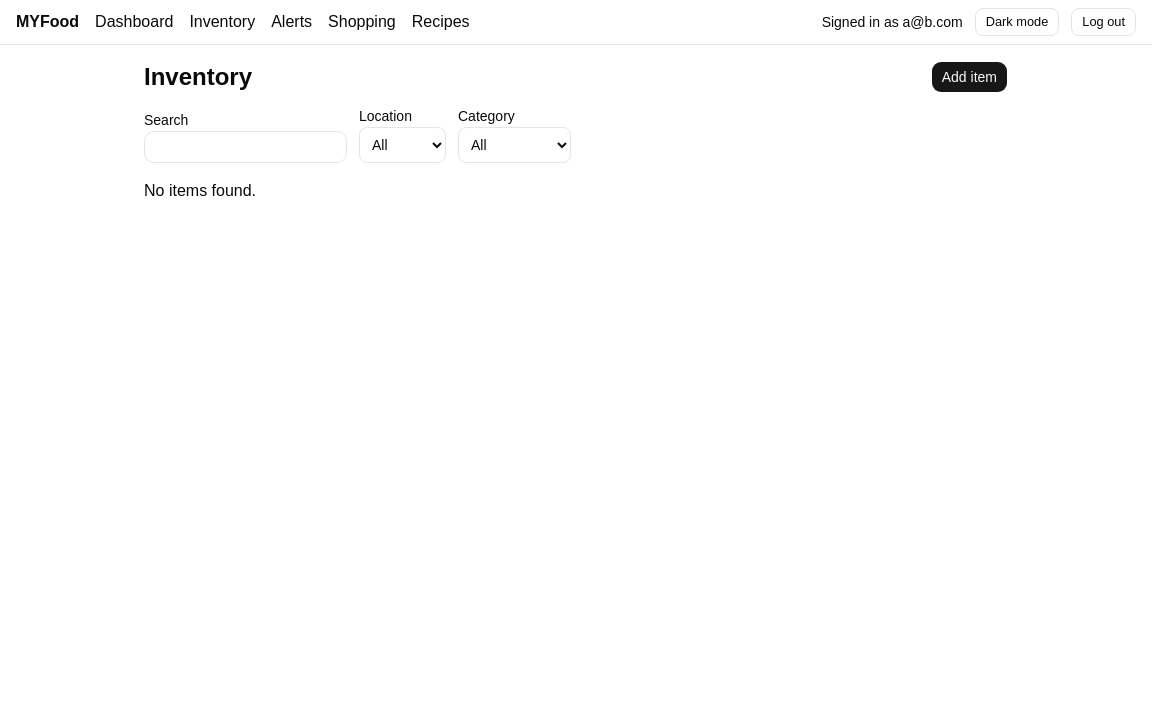
Test: inventory › shows 409 duplicate as a field error when creating
This screenshot has width=1152, height=720.
Click the button "Add item" at (969, 77), box [931,61,1008,93]
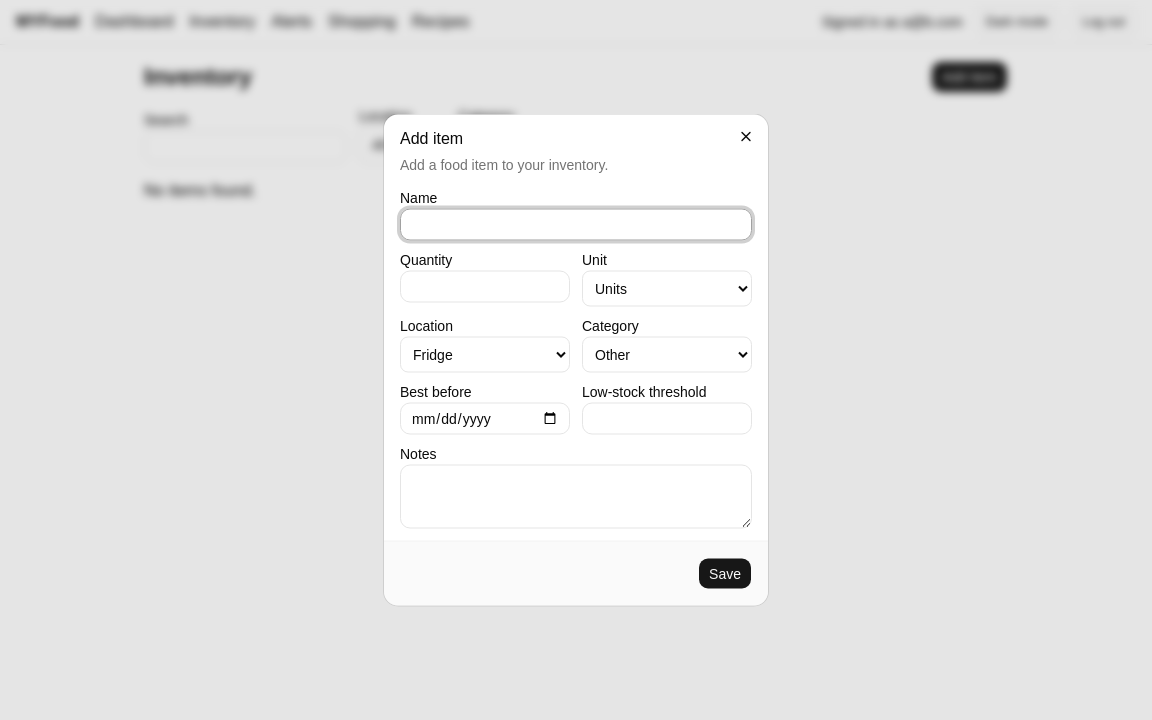
Type "Milk" into the field labelled "Name" at (576, 224), box [400,208,752,240]
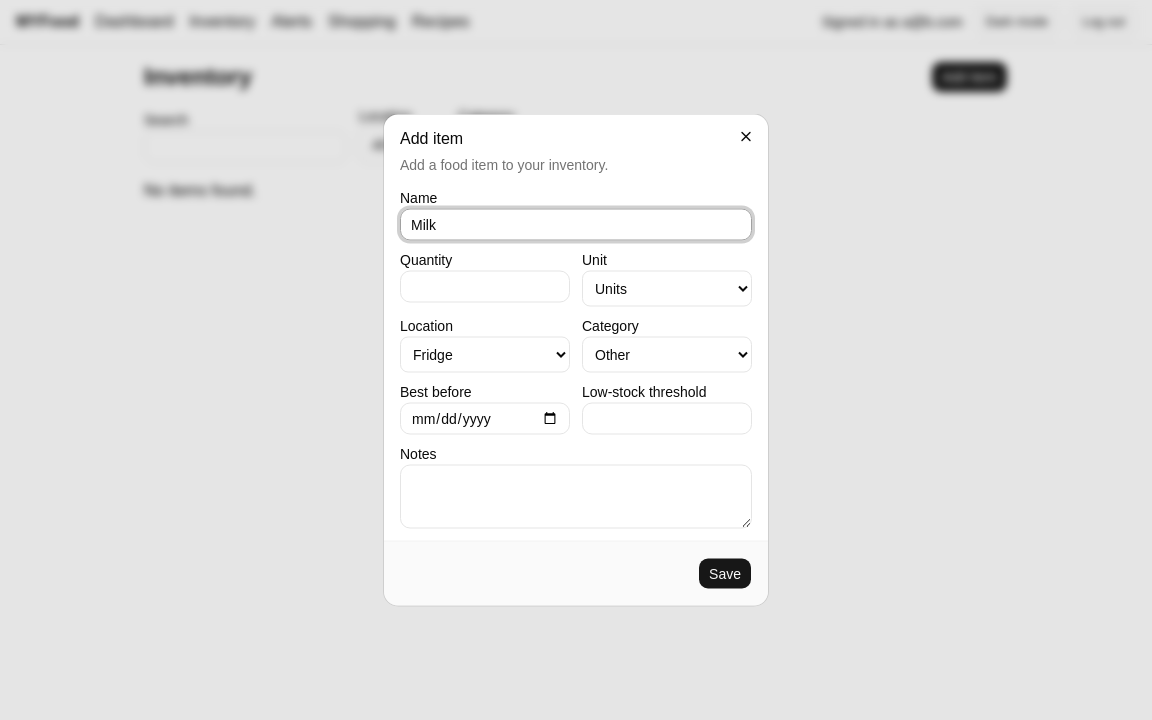
Type "1" into the number field labelled "Quantity" at (485, 286), box [400,270,570,302]
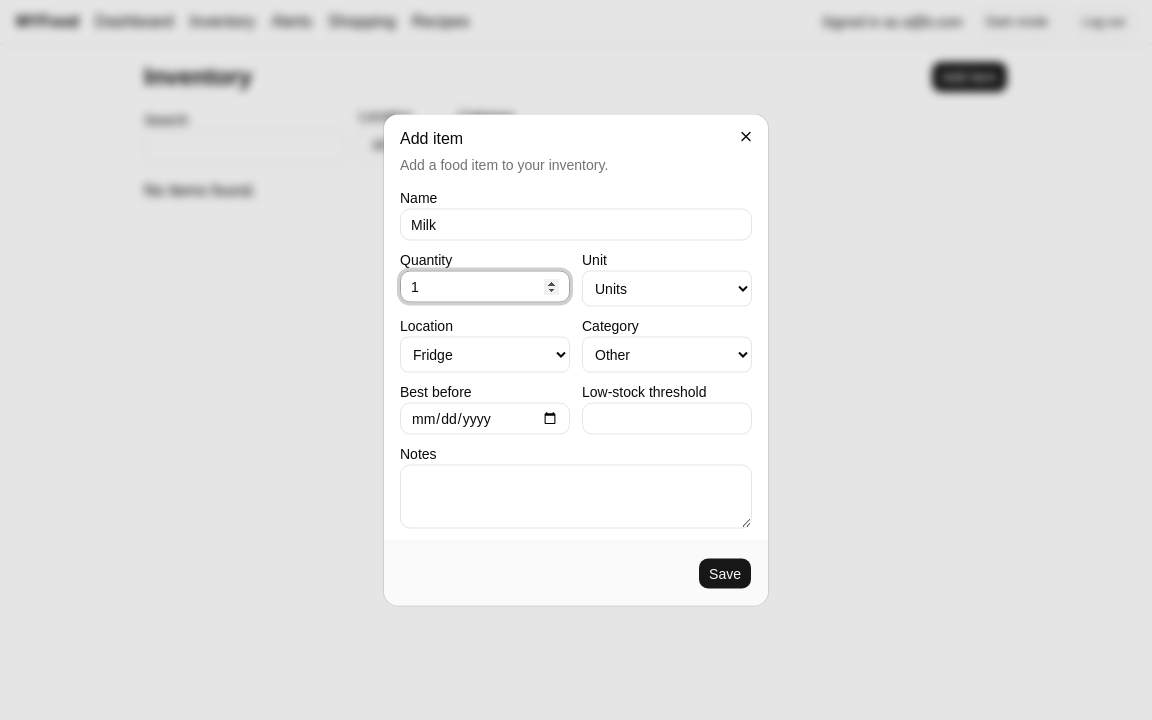
Type "2099-01-01" into the date field labelled "Best before" at (485, 418), box [400,402,570,434]
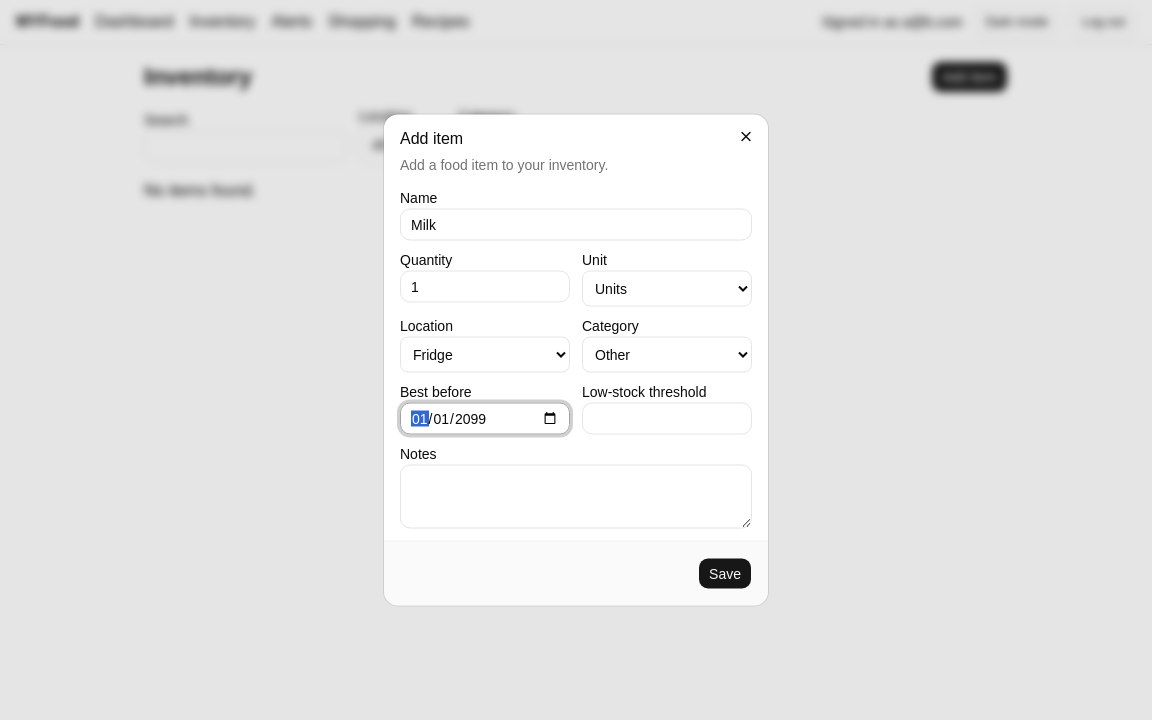
Click the button "Save" at (725, 574), box [698,558,752,590]
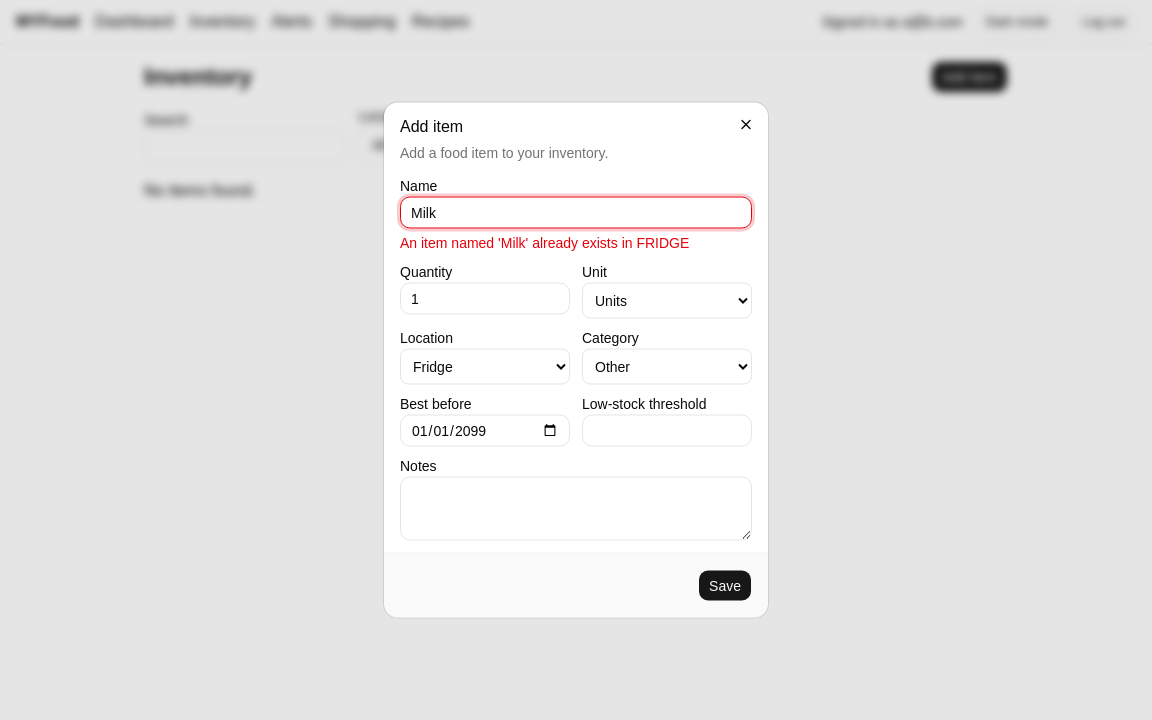
expect the text "An item named 'Milk' already exists in FRIDGE" is shown: met, box [400,234,689,250]
